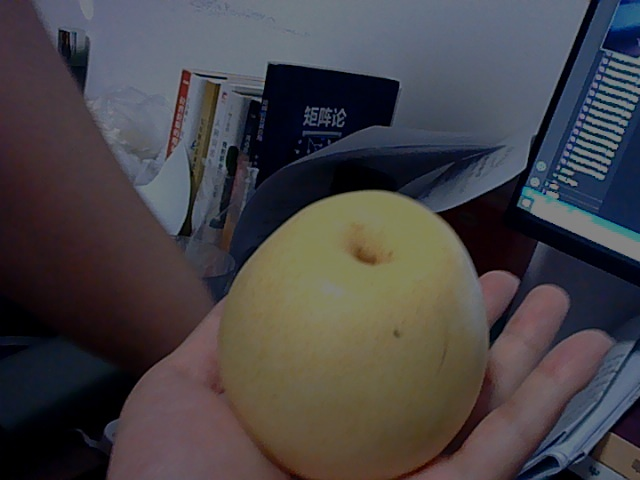pear: (225, 191, 483, 467)
